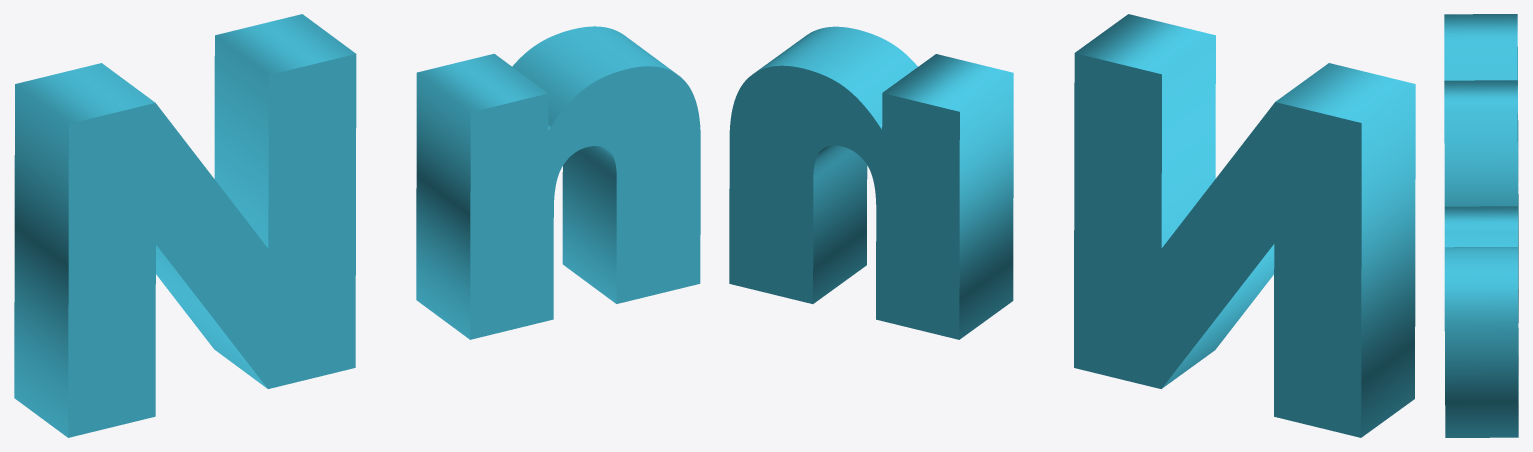
Rendered from letra n.fbx.
3 renders of one model, left to right at view 1: azimuth 30°, elevation 25°; view 2: azimuth 150°, elevation 25°; view 3: azimuth 270°, elevation 25°, orthographic. The views are drawn at different scales.
Visible parts, largest first — view 1: Text; view 2: Text; view 3: Text.
Part boxes in pixels (<box>): Text: <box>14,14,700,437</box>; Text: <box>729,14,1415,437</box>; Text: <box>1444,14,1518,437</box>.
Bounding box in the file's own units: 108 × 51.56 × 16.21.
